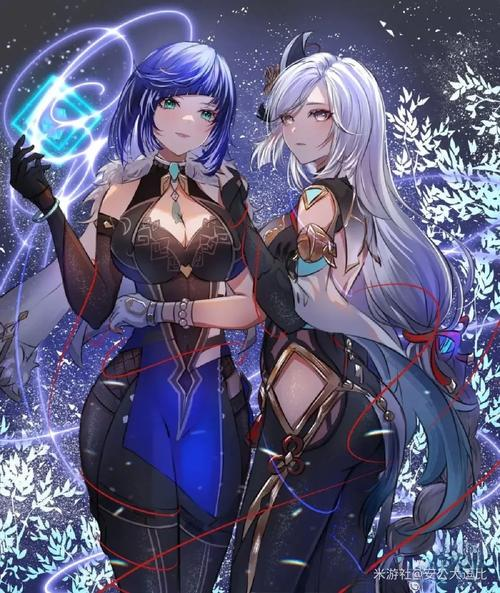夜兰: (7, 46, 263, 593)
